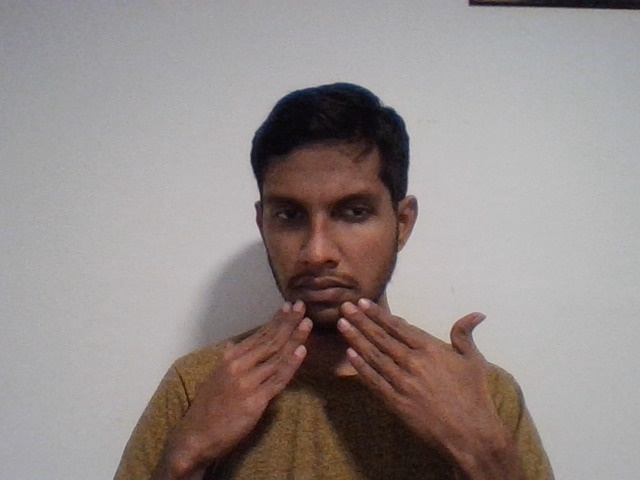thanks: (157, 294, 546, 465)
